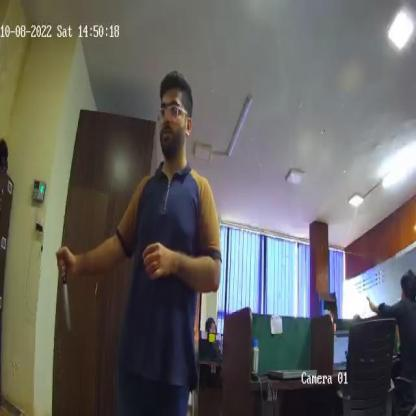Knife: (56, 246, 72, 332)
